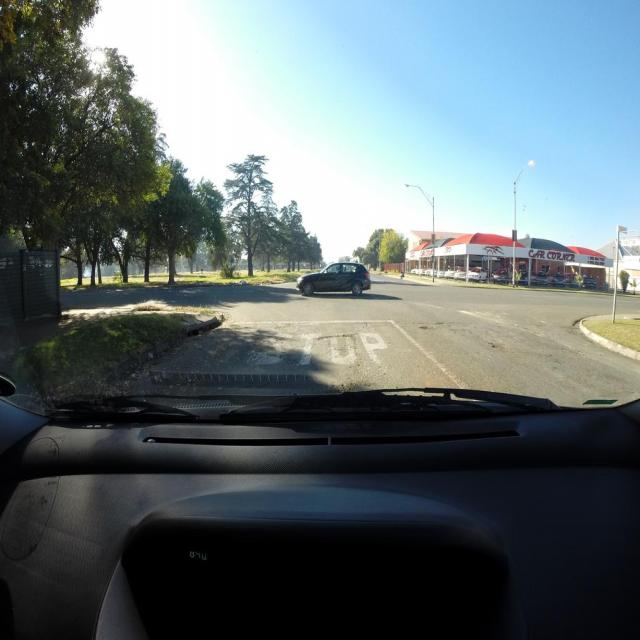Pothole: (331, 378, 354, 394), (318, 334, 355, 342), (492, 344, 507, 352), (419, 326, 433, 330), (436, 321, 447, 326)
